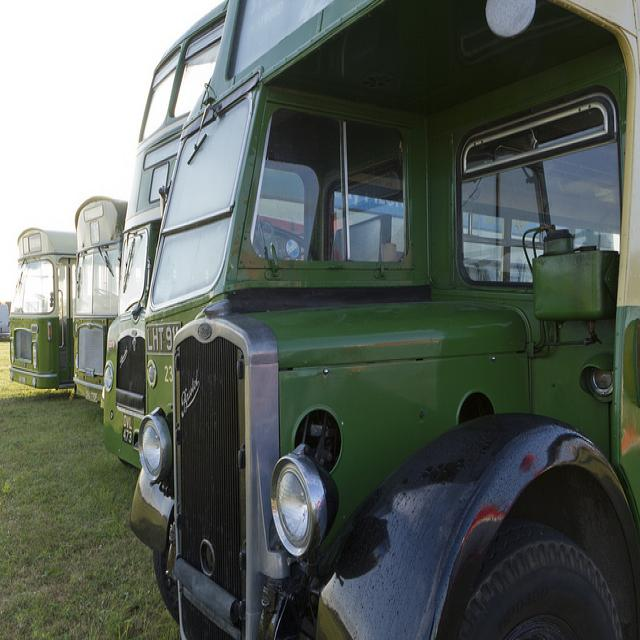Vehicle: (127, 3, 640, 636), (104, 16, 226, 470), (71, 198, 130, 407), (9, 226, 76, 392)
